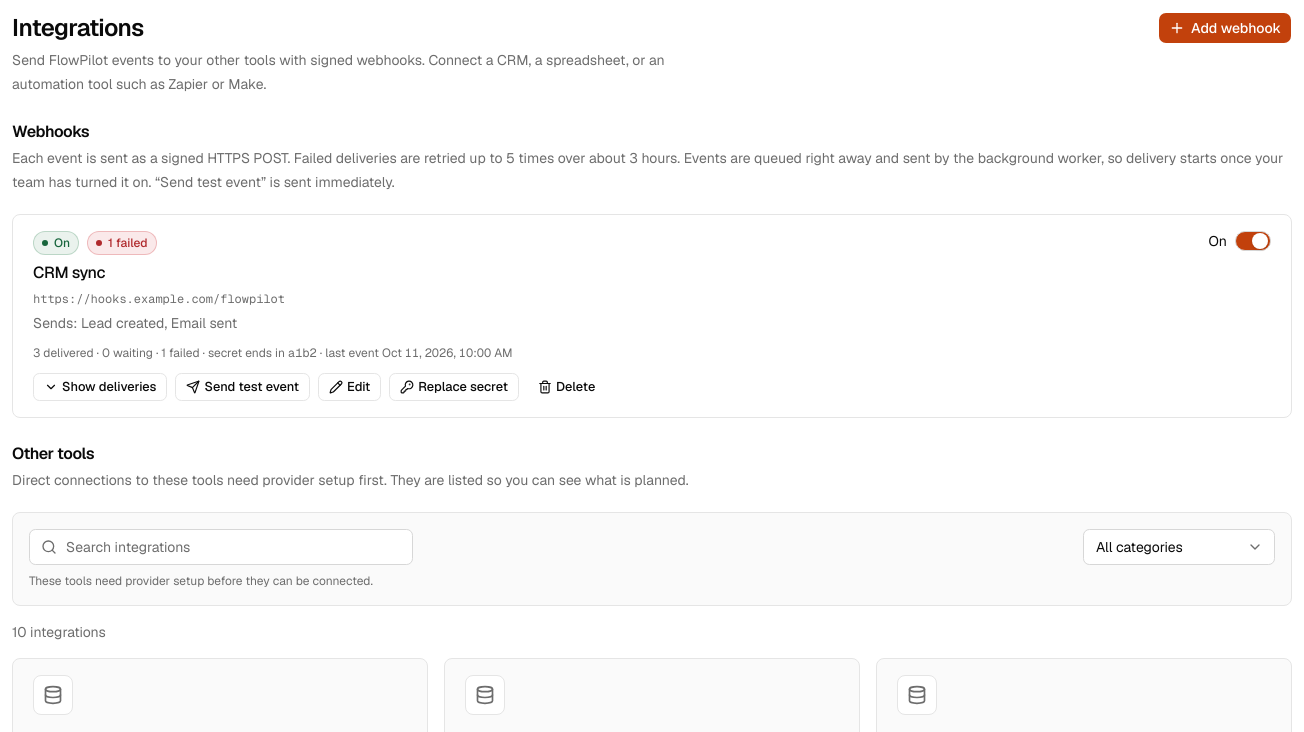
Test: Integrations page › filters the catalog locally
This screenshot has width=1304, height=732.
Expected: the element "CRM sync" is shown, [12,214,1292,418]
Expected: the text "10 integrations" is shown, [12,622,106,642]
Type "HubSpot" into the search field labelled "Search integrations" at (221, 547), box [29,529,413,565]
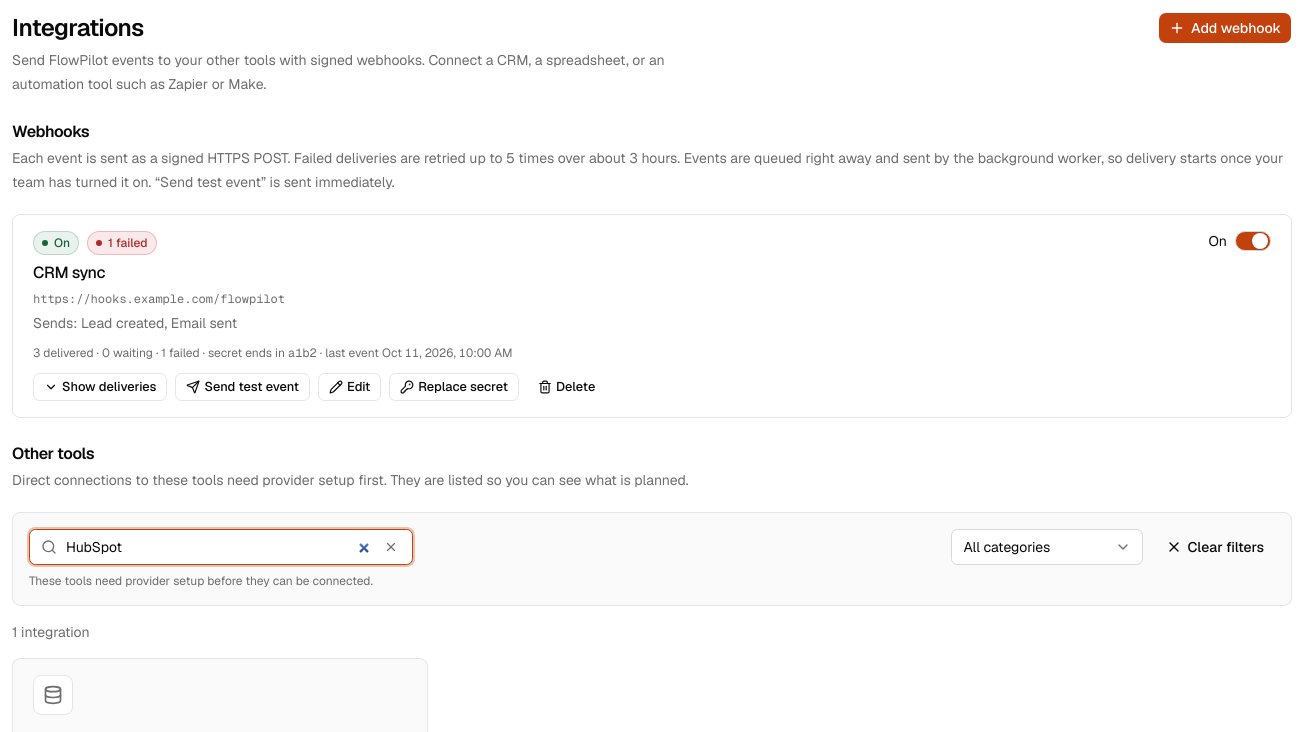
Result: the text "1 integration" is shown at [12,622,90,642]
Click the button named "Clear search" at (391, 547), box [377,533,405,561]
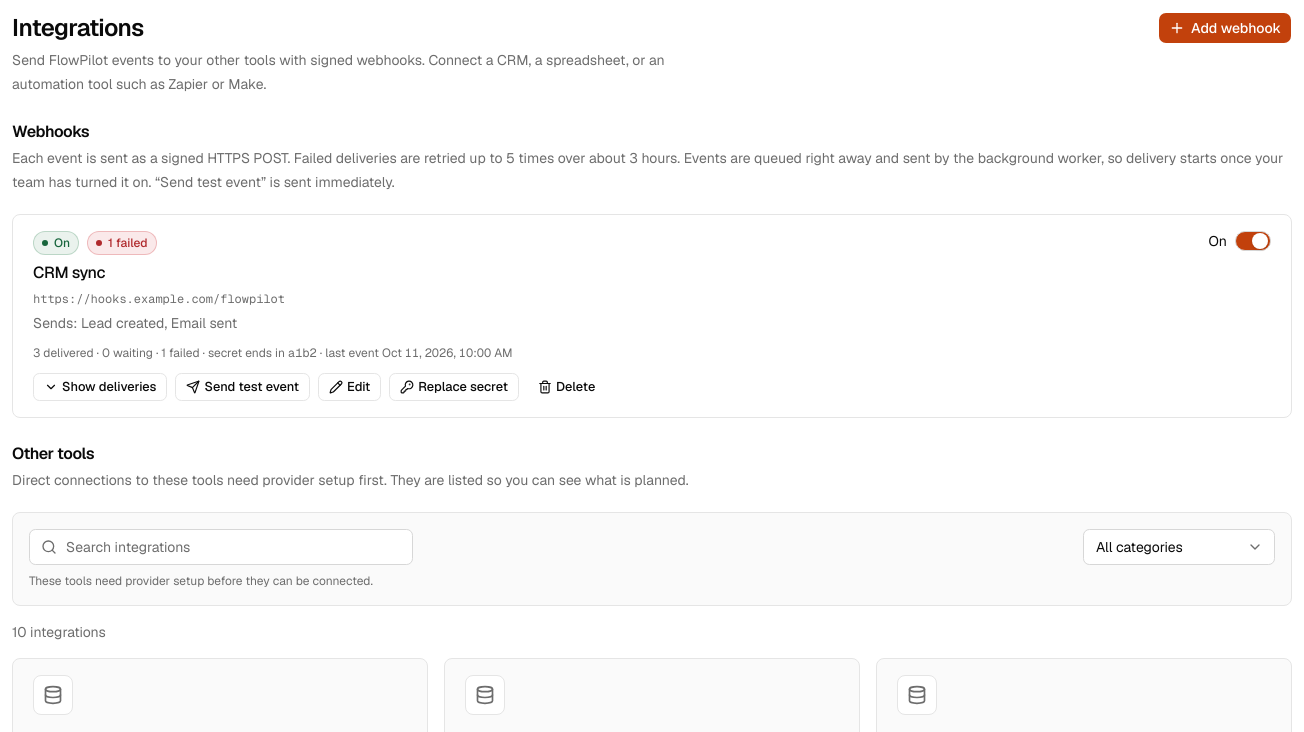
Select "Calendar" in the dropdown named "Integration category" at (1179, 547), box [1083,529,1275,565]
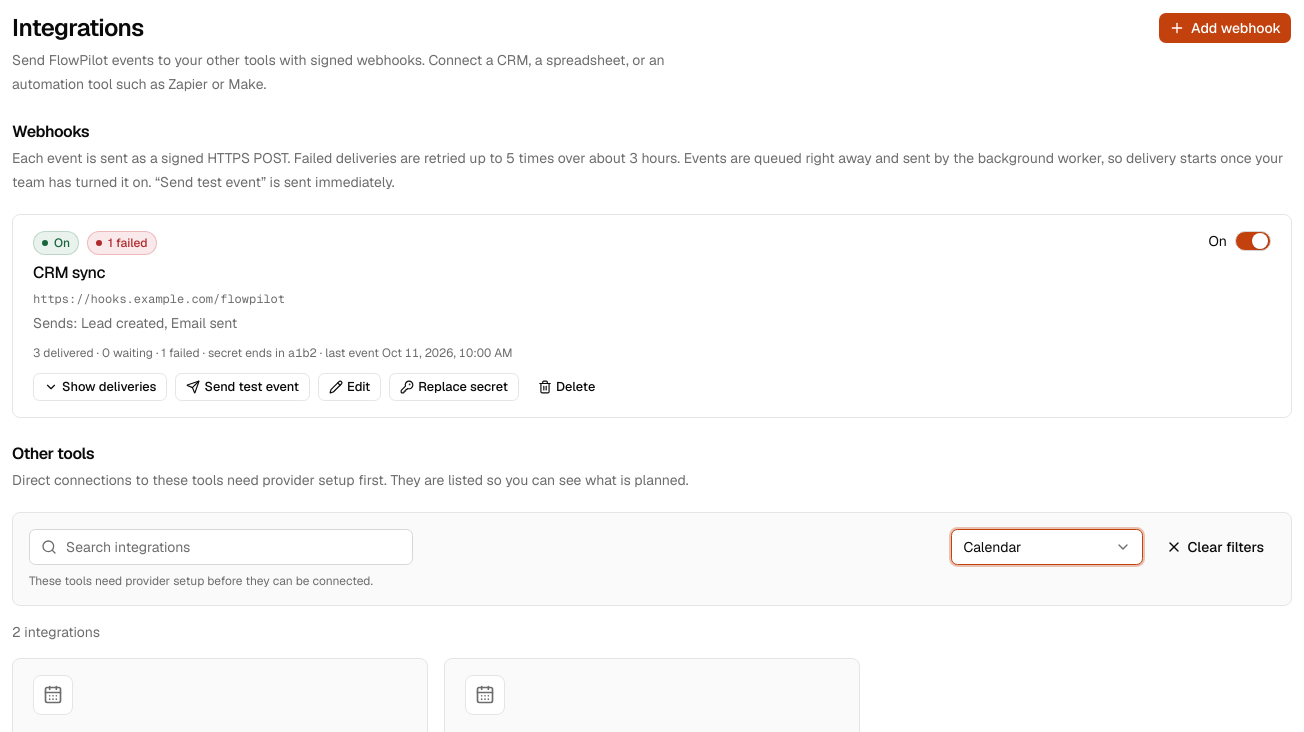
Result: the text "2 integrations" is shown at [12,622,100,642]
